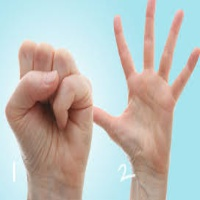ring: (160, 8, 184, 80), (53, 47, 78, 75)
